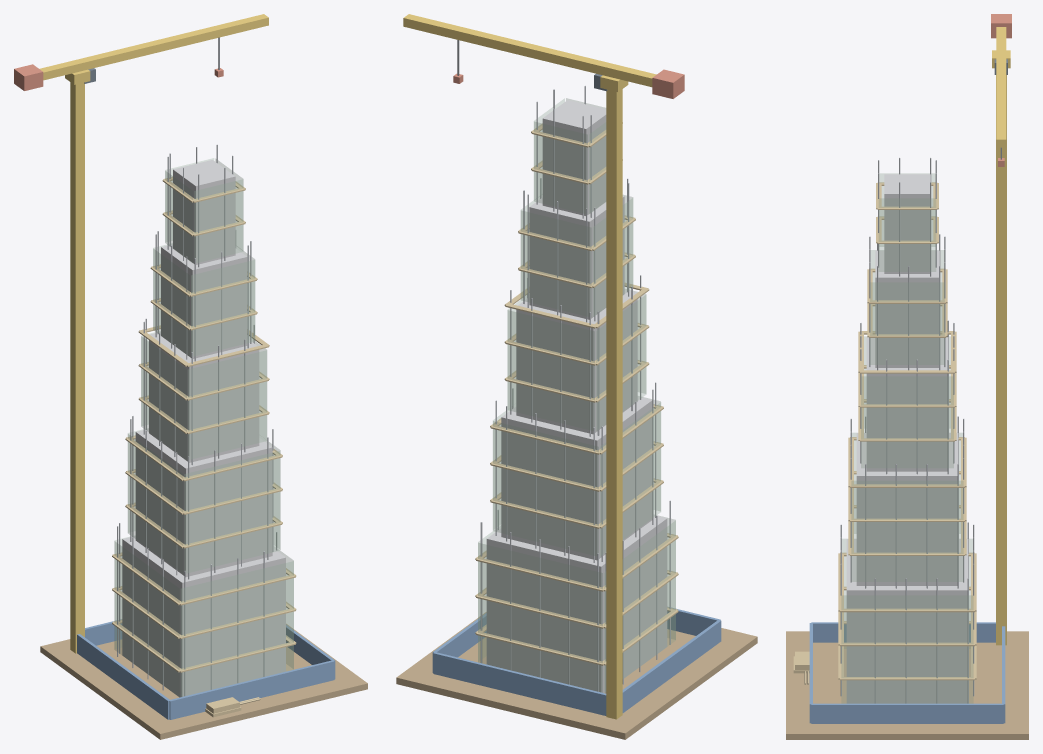
Rendered from num-5-construction.glb.
3 renders of one model, left to right at view 1: azimuth 30°, elevation 25°; view 2: azimuth 150°, elevation 25°; view 3: azimuth 270°, elevation 25°, orthographic. The views are drawn at different scales.
Bounding box in the file's own units: 26.2 × 60.65 × 22.
